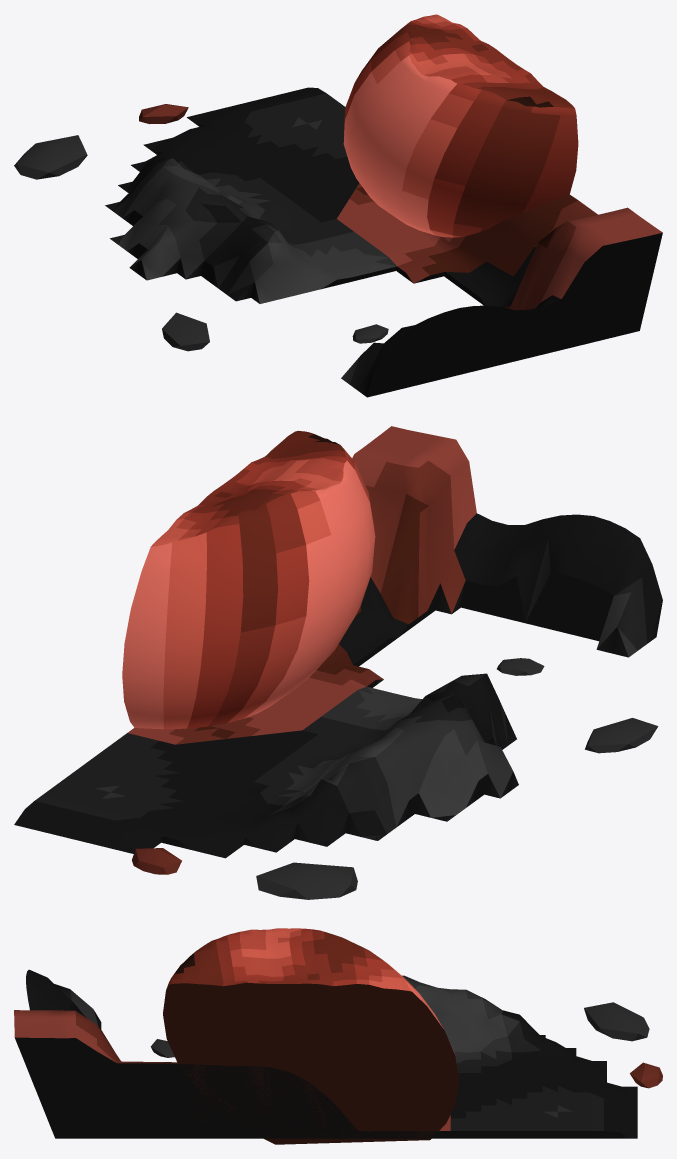
The model's file is brick_bulb_tl_wreck.glb.
3 renders of one model, top to bottom at view 1: azimuth 30°, elevation 25°; view 2: azimuth 150°, elevation 25°; view 3: azimuth 270°, elevation 25°, orthographic. The views are drawn at different scales.
Parts seen in each view (by area): view 1: brick_bulb_tl_wreck; view 2: brick_bulb_tl_wreck; view 3: brick_bulb_tl_wreck.
Boxes of the visible parts, bbox=[...] form: brick_bulb_tl_wreck: bbox=[14, 14, 662, 397]; brick_bulb_tl_wreck: bbox=[14, 426, 662, 899]; brick_bulb_tl_wreck: bbox=[14, 928, 662, 1144].
Bounding box in the file's own units: 12.11 × 6.49 × 21.17.
